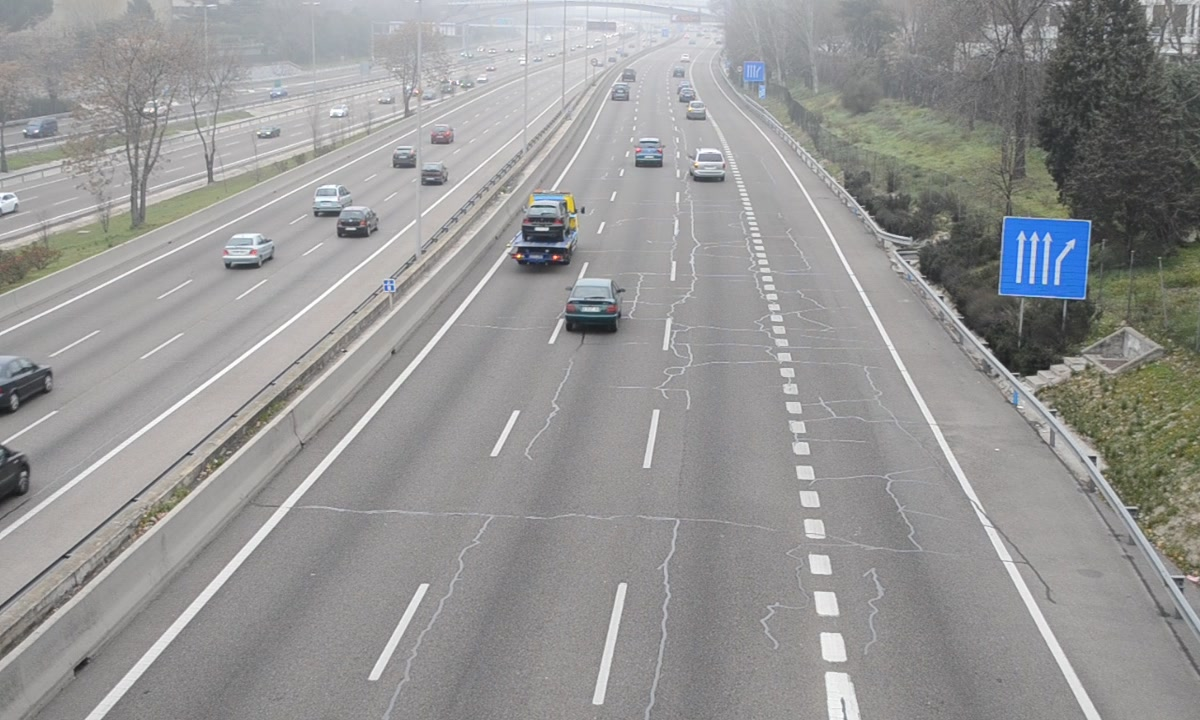car: (564, 277, 621, 327), (689, 148, 728, 180), (634, 138, 664, 165)
small-truck: (506, 192, 580, 265)
